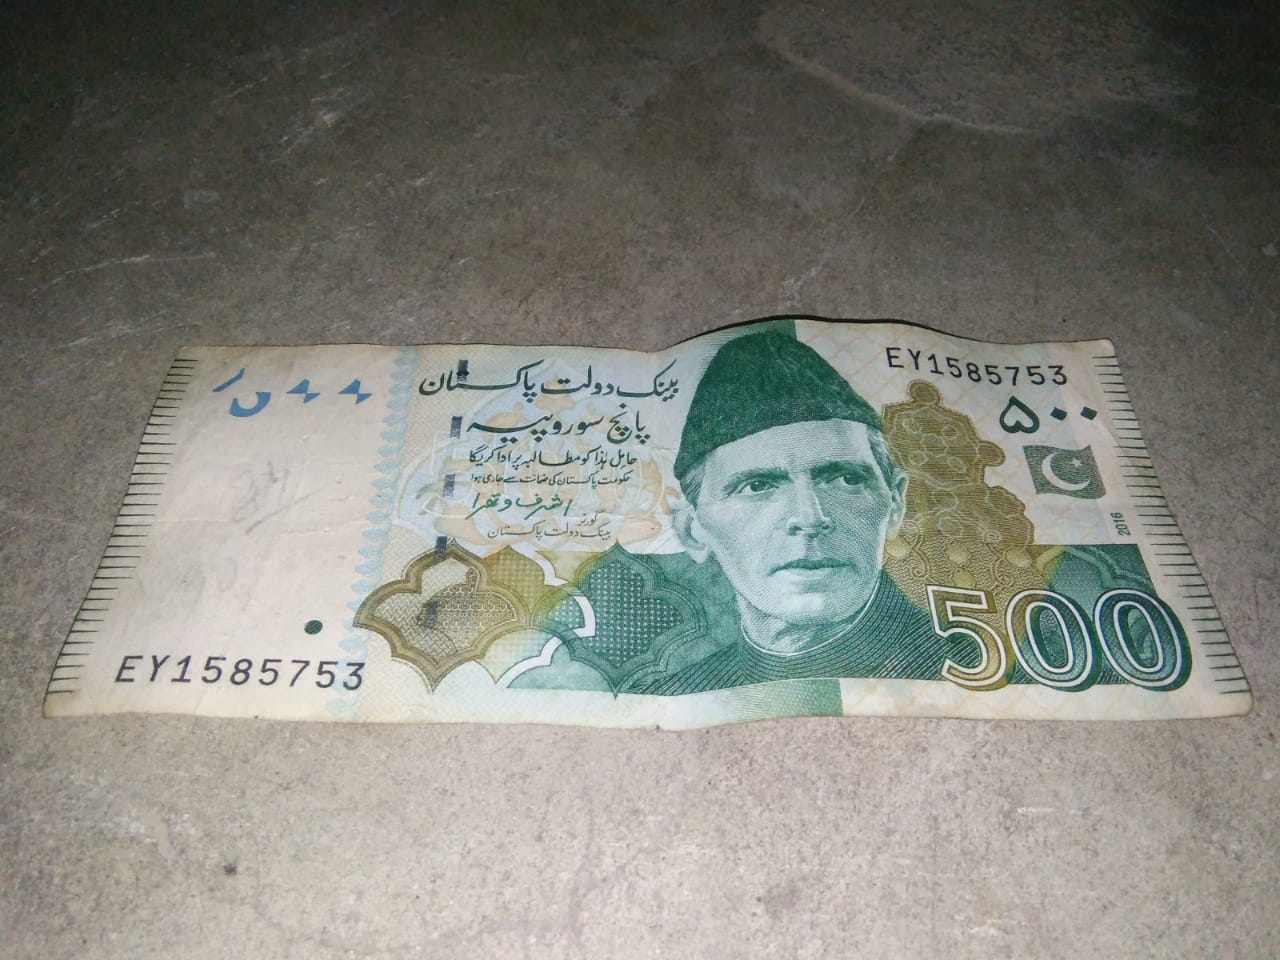500 rupee: (97, 282, 1226, 786)
